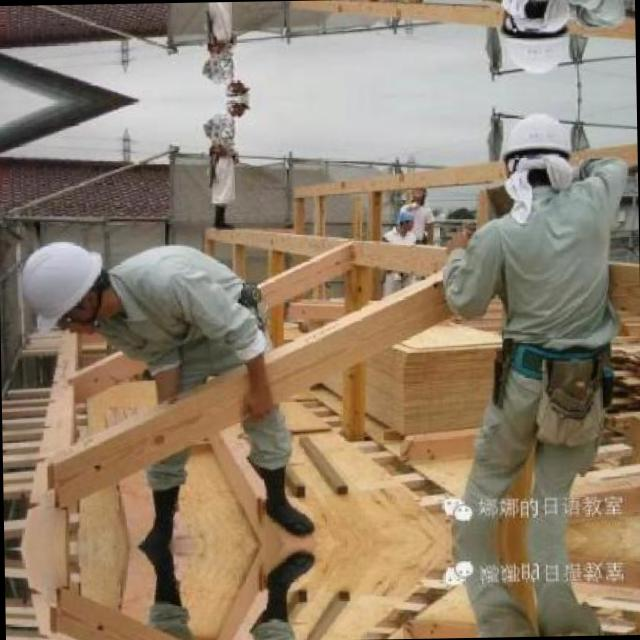helmet: (6, 230, 125, 334), (496, 102, 581, 194), (494, 0, 580, 81), (389, 206, 416, 234), (222, 97, 251, 118), (222, 76, 250, 96)
